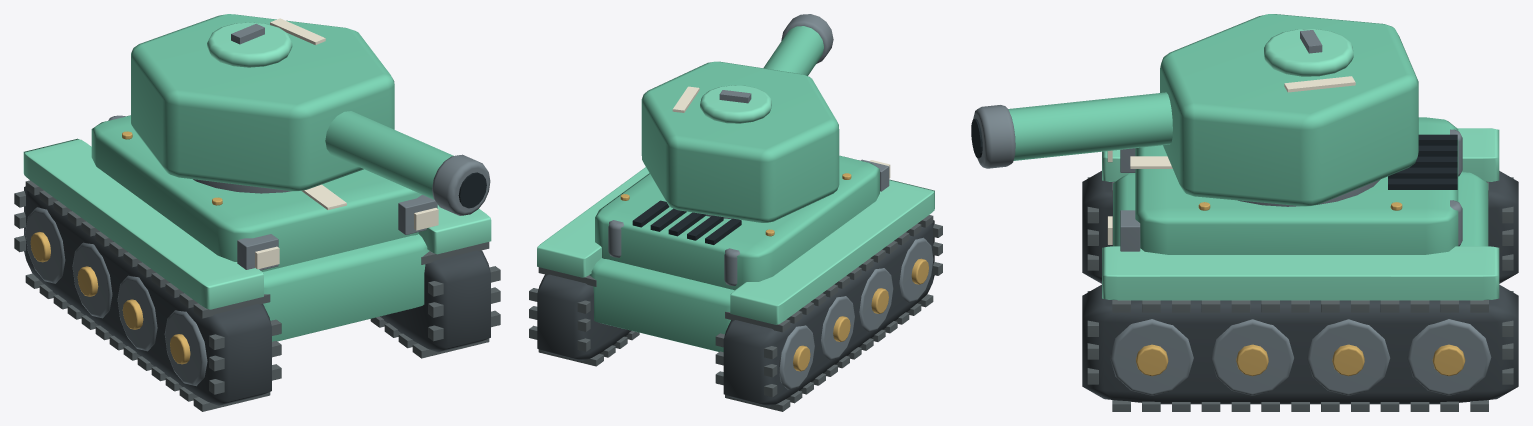
The model's file is tank_02_mint_cruiser.glb.
3 views of the same model, side by side, from view 1: azimuth 30°, elevation 25°; view 2: azimuth 150°, elevation 25°; view 3: azimuth 270°, elevation 25° (orthographic). The views are drawn at different scales.
Visible parts, largest first — view 1: Faceted turret, Upper deck.001, Track guard.002, Track belt.002, Lower hull.001, Track belt.003, Cannon tube.001, Commander hatch.001, Track guard.003, Muzzle rim.001, Road wheel.008, Road wheel.011 (+17 smaller); view 2: Faceted turret, Upper deck.001, Track guard.002, Lower hull.001, Track belt.002, Track belt.003, Track guard.003, Commander hatch.001, Cannon tube.001, Road wheel.011, Road wheel.008, Road wheel.010 (+10 smaller); view 3: Faceted turret, Track belt.003, Upper deck.001, Track guard.003, Cannon tube.001, Track belt.002, Road wheel.012, Road wheel.015, Road wheel.014, Road wheel.013, Commander hatch.001, Lower hull.001 (+12 smaller).
Boxes of the visible parts, left/top/right/bottom form: Faceted turret: left=131, top=14, right=394, bottom=191; Upper deck.001: left=91, top=115, right=422, bottom=271; Track guard.002: left=23, top=138, right=263, bottom=309; Track belt.002: left=24, top=186, right=271, bottom=405; Lower hull.001: left=262, top=234, right=429, bottom=341; Track belt.003: left=380, top=250, right=490, bottom=352; Cannon tube.001: left=325, top=111, right=453, bottom=199; Commander hatch.001: left=207, top=22, right=292, bottom=67; Track guard.003: left=418, top=205, right=491, bottom=254; Muzzle rim.001: left=432, top=154, right=490, bottom=215; Road wheel.008: left=164, top=310, right=207, bottom=386; Road wheel.011: left=25, top=207, right=65, bottom=283; Faceted turret: left=641, top=61, right=839, bottom=222; Upper deck.001: left=595, top=155, right=879, bottom=290; Track guard.002: left=730, top=179, right=934, bottom=324; Lower hull.001: left=589, top=258, right=734, bottom=351; Track belt.002: left=723, top=220, right=934, bottom=406; Track belt.003: left=537, top=274, right=631, bottom=361; Track guard.003: left=537, top=167, right=648, bottom=277; Commander hatch.001: left=700, top=85, right=771, bottom=123; Cannon tube.001: left=763, top=26, right=823, bottom=75; Road wheel.011: left=778, top=325, right=814, bottom=389; Road wheel.008: left=899, top=237, right=933, bottom=302; Road wheel.010: left=821, top=296, right=854, bottom=360; Faceted turret: left=1160, top=14, right=1418, bottom=206; Track belt.003: left=1082, top=284, right=1518, bottom=404; Upper deck.001: left=1135, top=117, right=1458, bottom=254; Track guard.003: left=1102, top=246, right=1499, bottom=300; Cannon tube.001: left=1008, top=92, right=1172, bottom=160; Track belt.002: left=1082, top=171, right=1518, bottom=283; Road wheel.012: left=1110, top=319, right=1193, bottom=395; Road wheel.015: left=1407, top=319, right=1491, bottom=395; Road wheel.014: left=1307, top=319, right=1390, bottom=395; Road wheel.013: left=1211, top=319, right=1293, bottom=395; Commander hatch.001: left=1264, top=29, right=1353, bottom=76; Lower hull.001: left=1113, top=172, right=1488, bottom=246.
Bounding box in the file's own units: 1.48 × 1.31 × 2.2.
